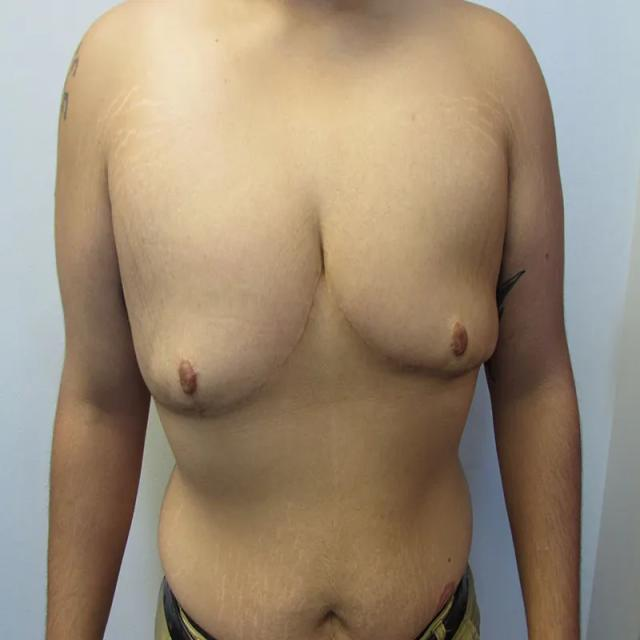Seno herido: (115, 196, 322, 444), (327, 195, 509, 407)
